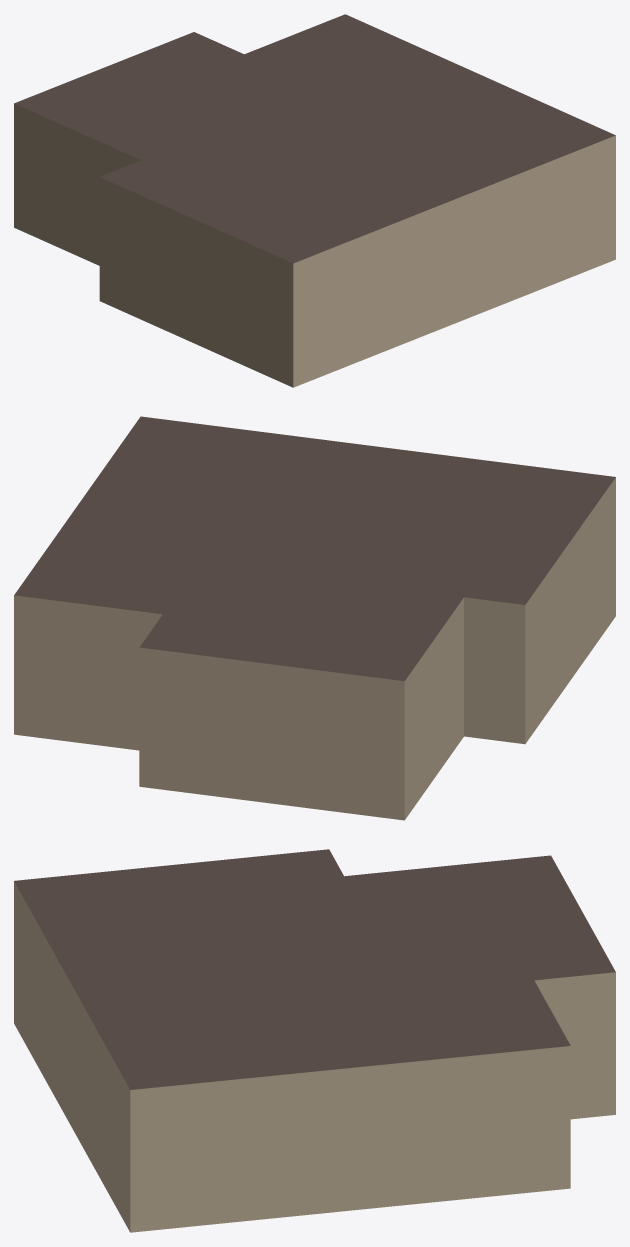
The picture shows the model from 3 angles, top to bottom: view 1: azimuth 30°, elevation 25°; view 2: azimuth 150°, elevation 25°; view 3: azimuth 270°, elevation 25°; orthographic projection. The views are drawn at different scales.
Visible parts, largest first — view 1: HP-w372180525; view 2: HP-w372180525; view 3: HP-w372180525.
Part boxes in pixels (left/top/right/bottom): HP-w372180525: left=14, top=14, right=615, bottom=387; HP-w372180525: left=14, top=416, right=615, bottom=820; HP-w372180525: left=14, top=849, right=615, bottom=1232.
Size of the model in its own units: 32.59 by 9 by 34.43.
